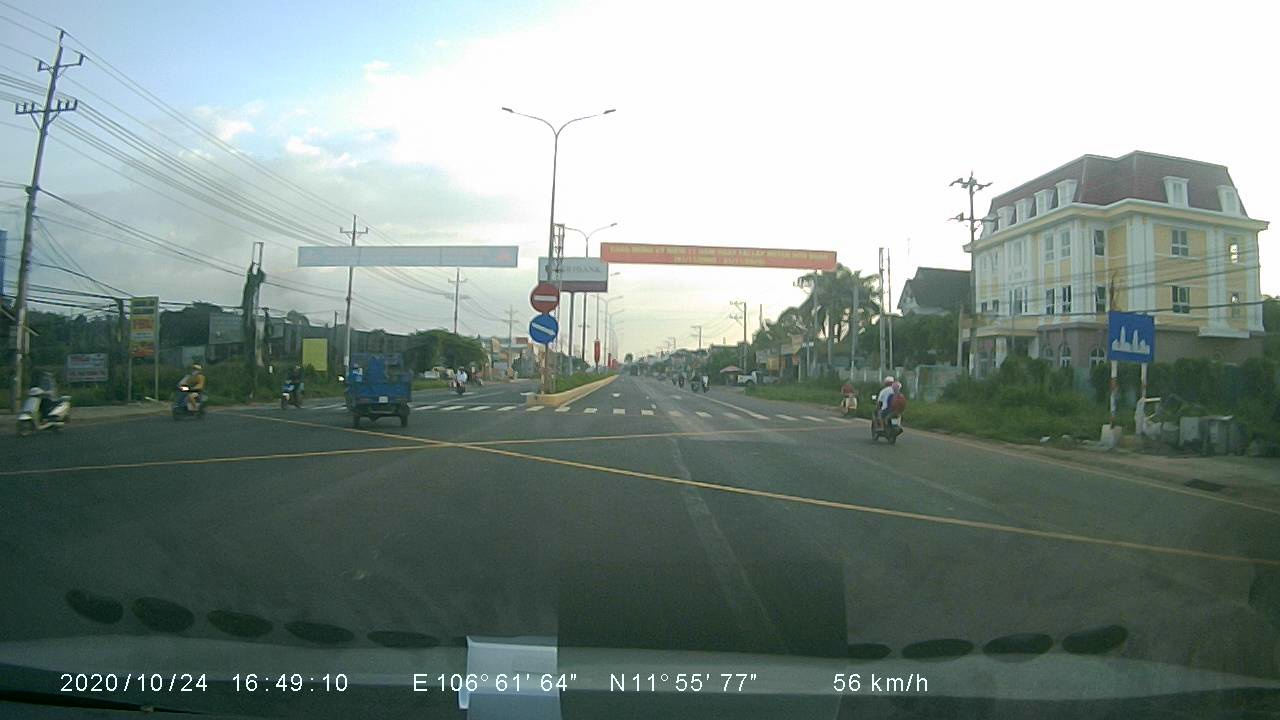Bien khac: (1104, 307, 1159, 365)
Cam di nguoc chieu: (528, 280, 561, 311)
Huong di phai re phai: (526, 315, 562, 344)
